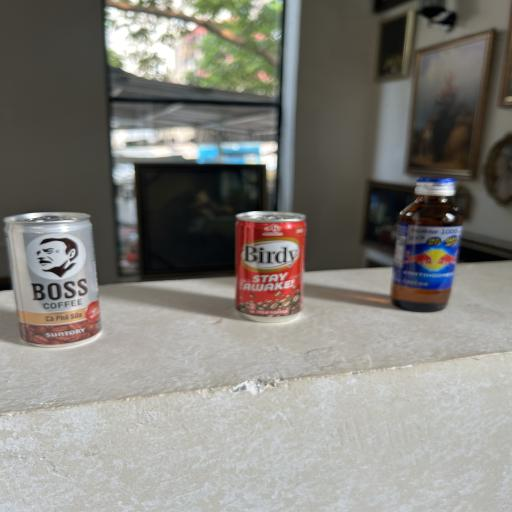birdy: (226, 208, 311, 326)
bo_huc: (388, 173, 466, 314)
boss_coffee: (7, 209, 105, 350)
